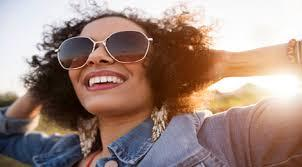sunglasses: (53, 27, 154, 71)
